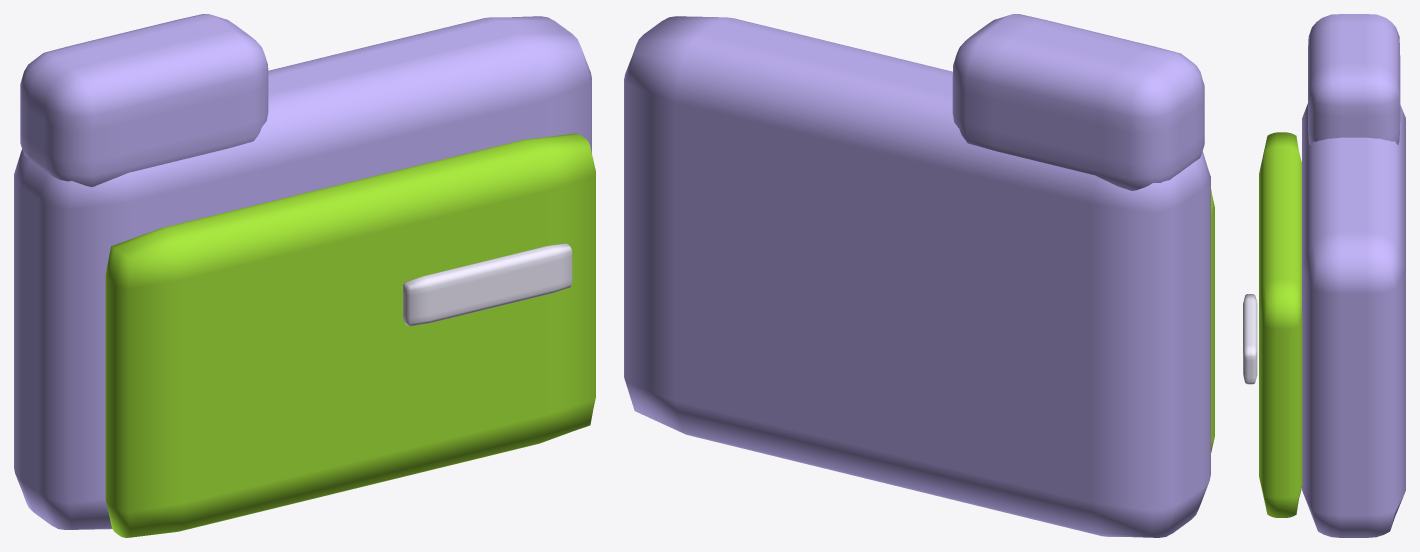
The model's file is folder.glb.
3 views of the same model, side by side, from view 1: azimuth 30°, elevation 25°; view 2: azimuth 150°, elevation 25°; view 3: azimuth 270°, elevation 25° (orthographic). The views are drawn at different scales.
Parts seen in each view (by area): view 1: folder; view 2: folder; view 3: folder.
Boxes of the visible parts, box(x1,y1,x2,y2) form: folder: box(14, 14, 595, 537); folder: box(624, 14, 1214, 537); folder: box(1243, 14, 1405, 537).
Size of the model in its own units: 1.65 by 1.34 by 0.565.
